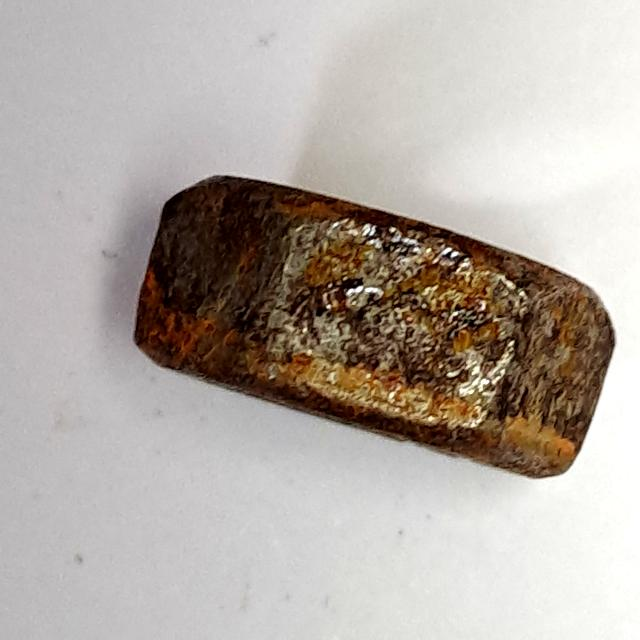Side_Rust: (111, 160, 626, 495)
